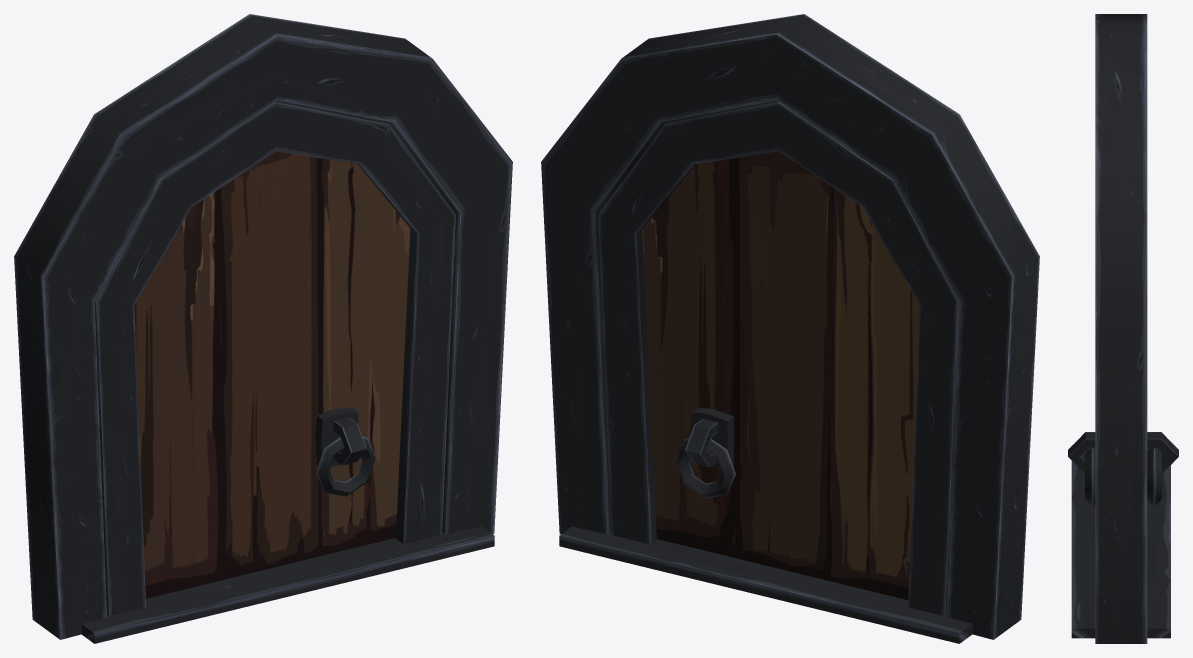
Rendered from MOD_Gateway_Door_01_med_02.fbx.
3 views of the same model, side by side, from view 1: azimuth 30°, elevation 25°; view 2: azimuth 150°, elevation 25°; view 3: azimuth 270°, elevation 25° (orthographic). The views are drawn at different scales.
Parts seen in each view (by area): view 1: MOD_Gateway_Door_01_med_02_door, MOD_Gateway_Door_01_med_02; view 2: MOD_Gateway_Door_01_med_02_door, MOD_Gateway_Door_01_med_02; view 3: MOD_Gateway_Door_01_med_02, MOD_Gateway_Door_01_med_02_door.
Boxes of the visible parts, x1,y1,x2,y2 form: MOD_Gateway_Door_01_med_02_door: [94, 100, 455, 615]; MOD_Gateway_Door_01_med_02: [14, 14, 512, 643]; MOD_Gateway_Door_01_med_02_door: [598, 100, 959, 615]; MOD_Gateway_Door_01_med_02: [541, 14, 1039, 643]; MOD_Gateway_Door_01_med_02: [1071, 14, 1170, 643]; MOD_Gateway_Door_01_med_02_door: [1068, 432, 1178, 506].
Bounding box in the file's own units: 353 × 396 × 76.64.
